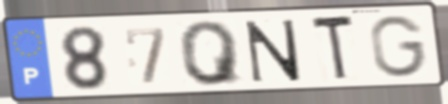7: (124, 26, 169, 85)
8: (57, 24, 111, 92)
G: (367, 13, 430, 79)
N: (243, 17, 304, 85)
Q: (176, 19, 246, 88)
T: (309, 12, 358, 85)
